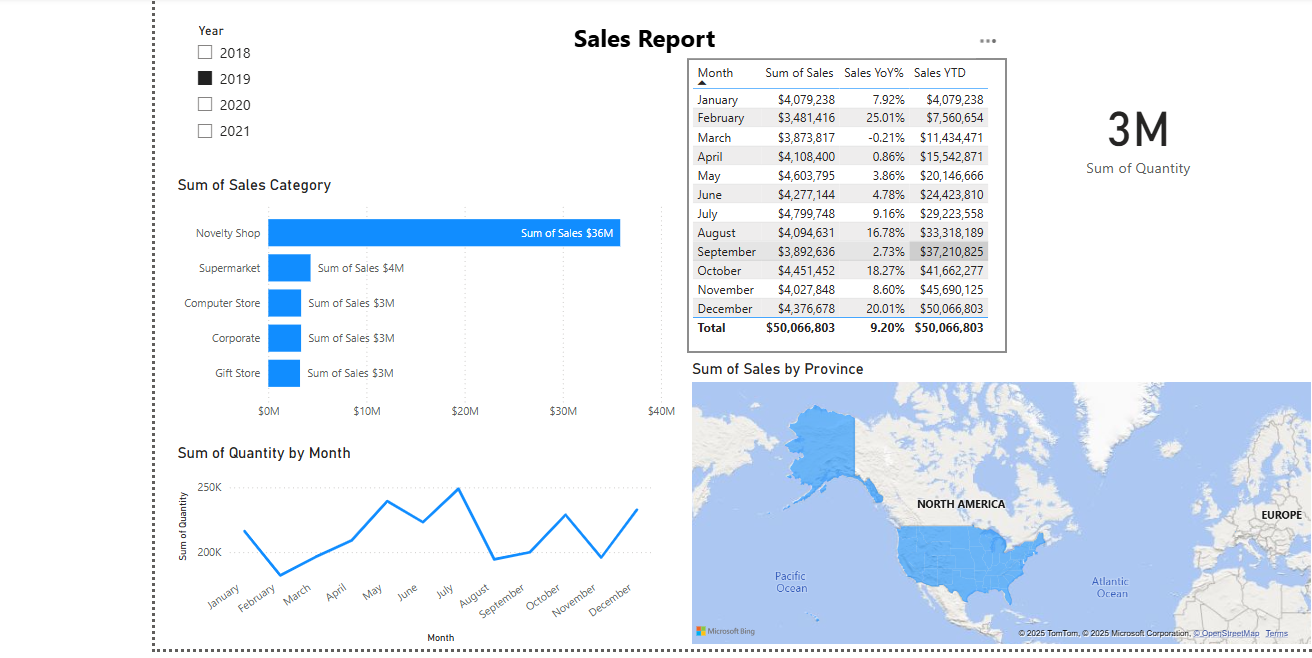

What the dashboard file says about the page in this screenshot:
{"tool":"powerbi","page":{"name":"Page 1","canvas":[1280,720],"ordinal":0},"visuals":[{"type":"clusteredBarChart","title":"Sum of Sales Category","fields":{"Category":["MasterCustomer.CustomerCategoryName"],"Y":["Sum(InvoiceData.Sales)"]},"box":[19.9,197.2,567.6,278.8],"z":0},{"type":"slicer","fields":{"Values":["InvoiceData.Date.Variation.Date Hierarchy.Year"]},"box":[34,22.7,279.7,143.6],"z":1000},{"type":"tableEx","fields":{"Values":["InvoiceData.Date.Variation.Date Hierarchy.Month","Sum(InvoiceData.Sales)","InvoiceData.Sales YoY%","InvoiceData.Sales YTD"]},"box":[587.6,67.7,352.5,324.7],"z":1001},{"type":"filledMap","fields":{"Category":["MasterCustomer.Province"]},"box":[587.6,400.3,693.1,318.7],"z":1002},{"type":"lineChart","fields":{"Y":["Sum(InvoiceData.Quantity)"],"Category":["InvoiceData.Date.Variation.Date Hierarchy.Month"]},"box":[19.9,493.9,533.8,225.1],"z":1003},{"type":"textbox","box":[173.3,21.9,733,45.8],"z":1004},{"type":"card","fields":{"Values":["Sum(InvoiceData.Quantity)"]},"box":[940.9,67.9,289.9,162.3],"z":1005}]}

Visuals, with their boxes on the page's 1280x720 design canvas (x1, y1, x2, y2). These are canvas units, not pixel positions in the 1312x658 screenshot, which may show the page scaled, cropped or inside an application window:
"Sum of Sales Category" clusteredBarChart: (20,197,588,476)
slicer - InvoiceData.Date.Variation.Date Hierarchy.Year: (34,23,314,166)
tableEx - InvoiceData.Date.Variation.Date Hierarchy.Month x Sum(InvoiceData.Sales): (588,68,940,392)
filledMap - MasterCustomer.Province: (588,400,1281,719)
lineChart - Sum(InvoiceData.Quantity) x InvoiceData.Date.Variation.Date Hierarchy.Month: (20,494,554,719)
textbox: (173,22,906,68)
card - Sum(InvoiceData.Quantity): (941,68,1231,230)
